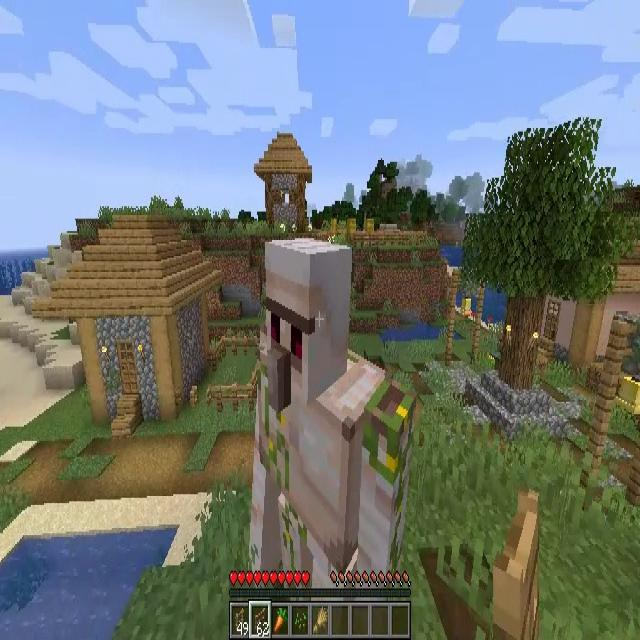people: (248, 238, 418, 596)
